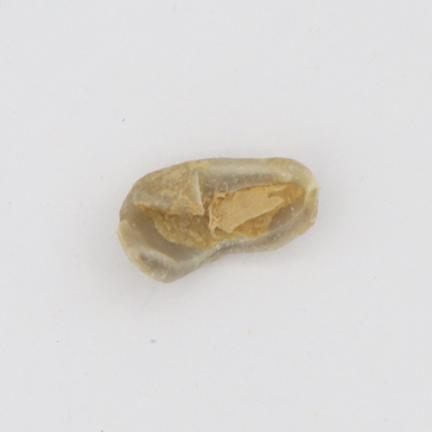shell: (118, 159, 318, 282)
